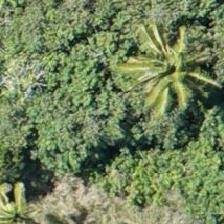coconut_tree: (134, 19, 223, 109), (0, 142, 58, 223)
